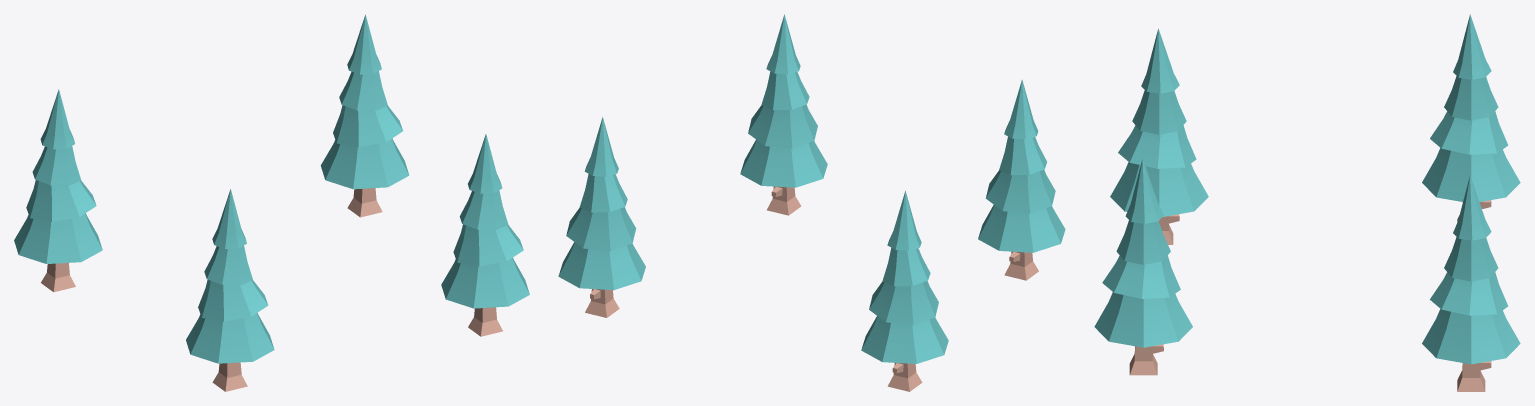
The model's file is tree.glb.
3 views of the same model, side by side, from view 1: azimuth 30°, elevation 25°; view 2: azimuth 150°, elevation 25°; view 3: azimuth 270°, elevation 25° (orthographic). The views are drawn at different scales.
Visible parts, largest first — view 1: tree_pineRoundF.003; view 2: tree_pineRoundF.003; view 3: tree_pineRoundF.003.
Part boxes in pixels (x1=…): tree_pineRoundF.003: x1=14, y1=14, x2=529, y2=391; tree_pineRoundF.003: x1=558, y1=14, x2=1065, y2=391; tree_pineRoundF.003: x1=1094, y1=14, x2=1520, y2=391.
Bounding box in the file's own units: 11.02 × 5.36 × 9.8.
